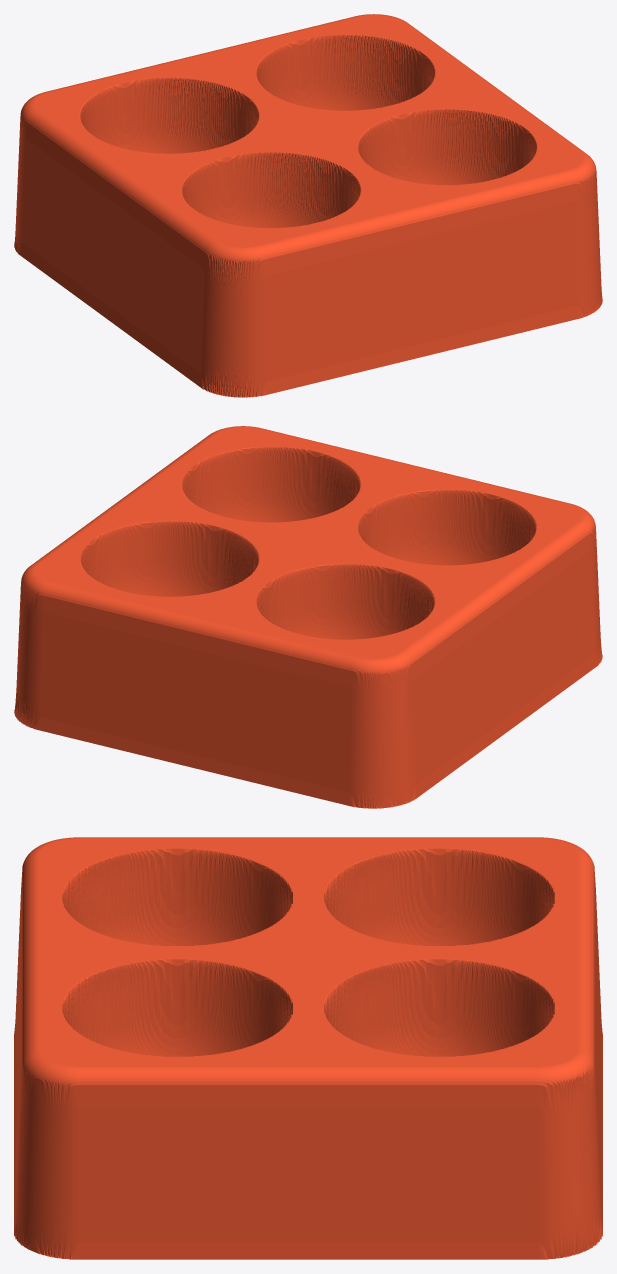
File: mold.glb
3 views of the same model, one above another, from view 1: azimuth 30°, elevation 25°; view 2: azimuth 150°, elevation 25°; view 3: azimuth 270°, elevation 25° (orthographic). The views are drawn at different scales.
Visible parts, largest first — view 1: geometry_0; view 2: geometry_0; view 3: geometry_0.
Boxes of the visible parts, box(x1,y1,x2,y2) form: geometry_0: box(14, 14, 602, 397); geometry_0: box(14, 426, 602, 808); geometry_0: box(14, 837, 602, 1259).
Size of the model in its own units: 0.0828 by 0.0283 by 0.0828.
